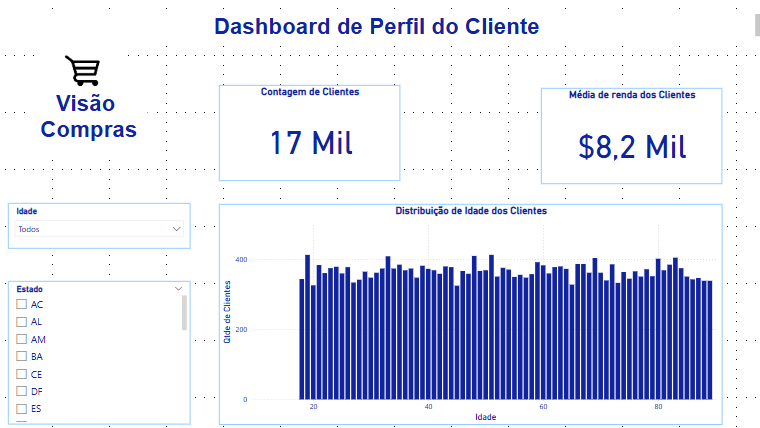

What the dashboard file says about the page in this screenshot:
{"tool":"powerbi","page":{"name":"Visão Compra","canvas":[1280,720],"ordinal":1},"visuals":[{"type":"textbox","box":[0,22,1280.5,49.8],"z":0},{"type":"slicer","fields":{"Values":["Base cliente.idade"]},"box":[22,342.4,304.4,76.1],"z":1000},{"type":"slicer","fields":{"Values":["Base cliente.uf_nascimento"]},"box":[22,471.2,304.4,238.5],"z":2000},{"type":"card","title":"Contagem de Clientes","fields":{"Values":["Count(Base cliente.cliente_Log)"]},"box":[373.2,144.9,302,159.5],"z":3000,"group":"g1"},{"type":"columnChart","title":"Distribuição de Idade dos Clientes","fields":{"Category":["Base cliente.idade"],"Y":["CountNonNull(Base cliente.cliente_Log)"]},"box":[373.7,342.6,838.9,367.8],"z":3000},{"type":"card","title":"Média de renda dos Clientes","fields":{"Values":["Avg(Base cliente.renda)"]},"box":[910.1,149.3,302,159.5],"z":4000,"group":"g1"},{"type":"group","id":"g1","title":"Grupo 1","box":[373.2,144.9,840,163.9],"z":4000},{"type":"image","box":[0,46.8,291.2,149.3],"z":5000},{"type":"textbox","box":[58.5,149.3,196.1,109.8],"z":6000}]}

Visuals, with their boxes in screenshot pixels (x1, y1, x2, y2), scaled from the page's 1280x720 canvas onto the 760x428 screenshot:
textbox: (0, 13, 759, 43)
slicer - Base cliente.idade: (13, 204, 194, 249)
slicer - Base cliente.uf_nascimento: (13, 280, 194, 422)
"Contagem de Clientes" card: (222, 86, 401, 181)
"Distribuição de Idade dos Clientes" columnChart: (222, 204, 720, 422)
"Média de renda dos Clientes" card: (540, 89, 720, 184)
"Grupo 1" group: (222, 86, 720, 184)
image: (0, 28, 173, 117)
textbox: (35, 89, 151, 154)
